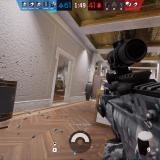Friend_label: (103, 90, 117, 96), (90, 94, 100, 100)
